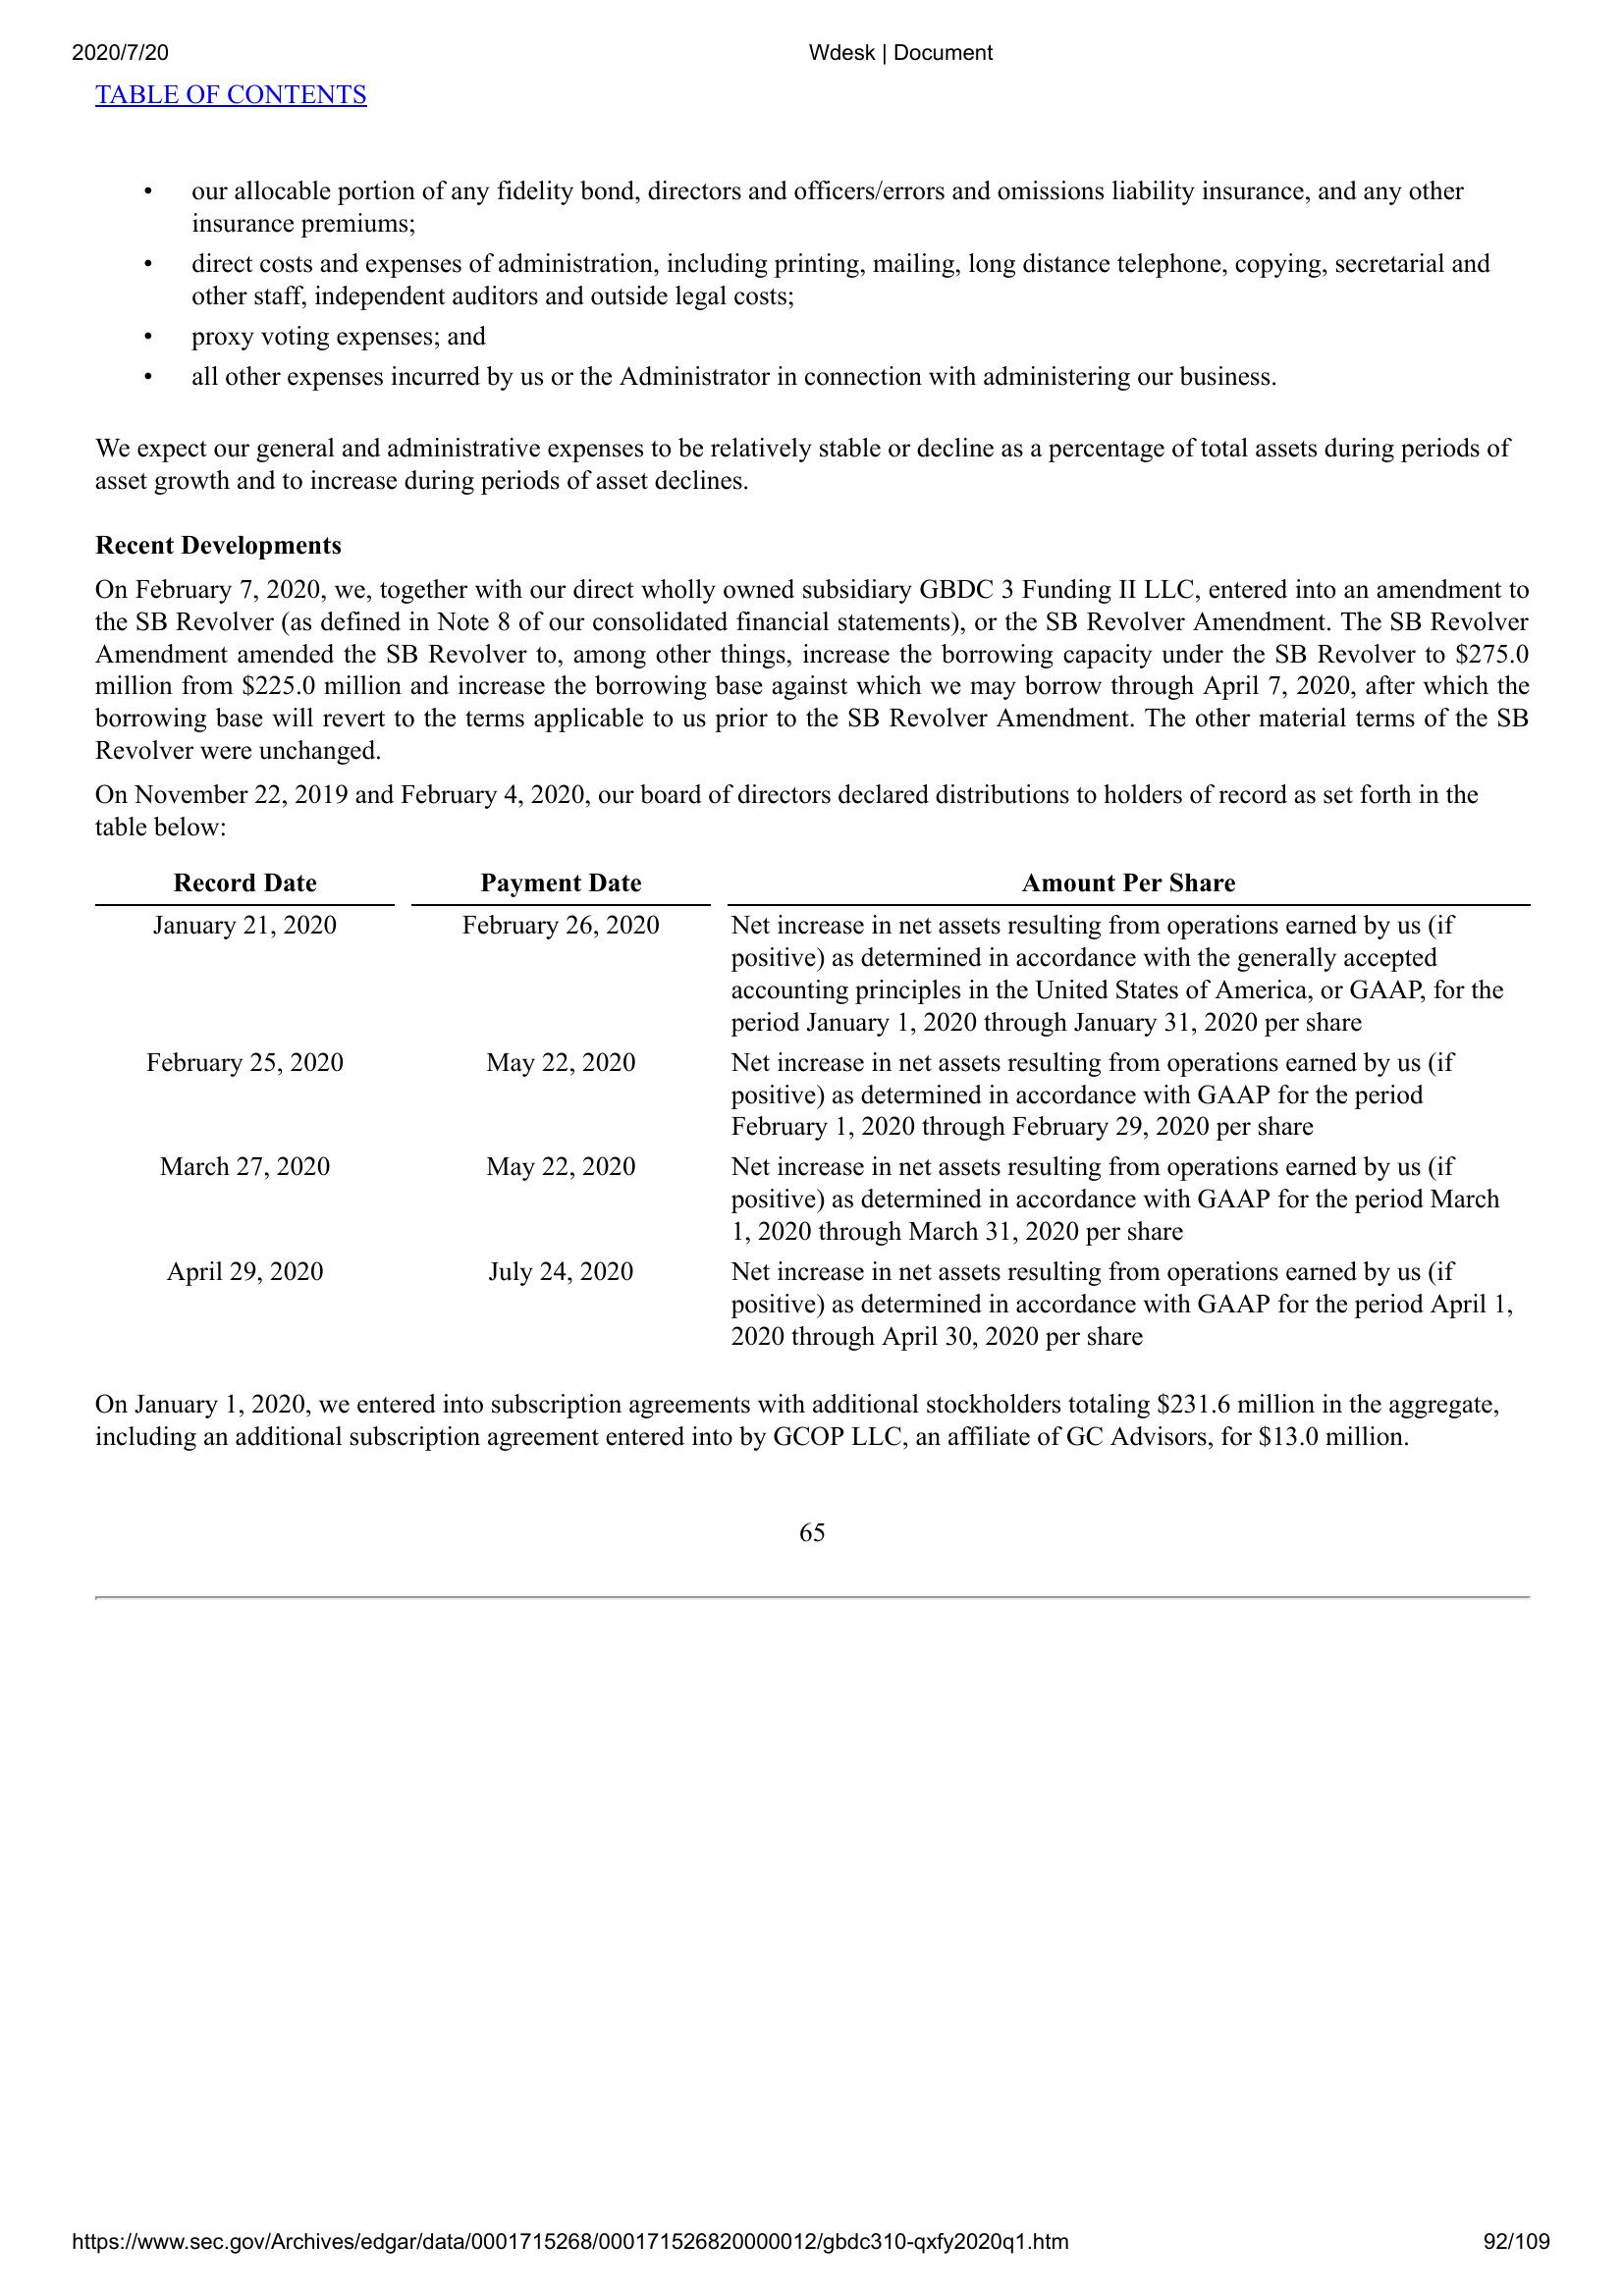table: (93, 865, 1530, 1357)
